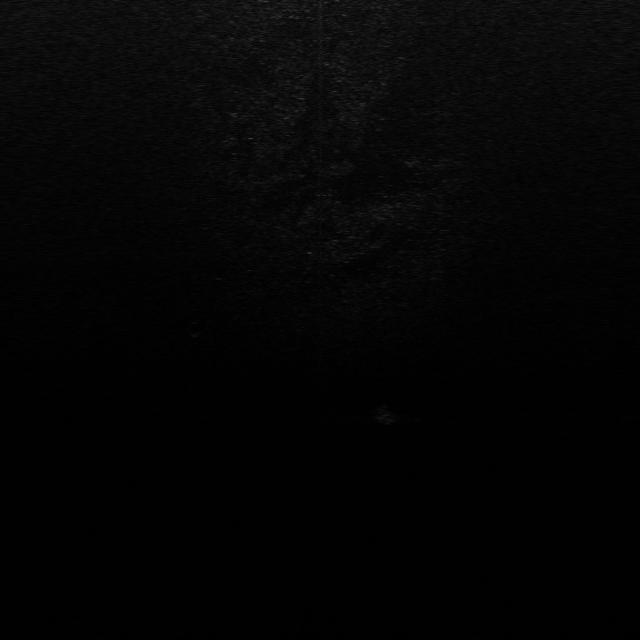ball: (372, 403, 402, 425)
circle cage: (182, 318, 207, 339)
